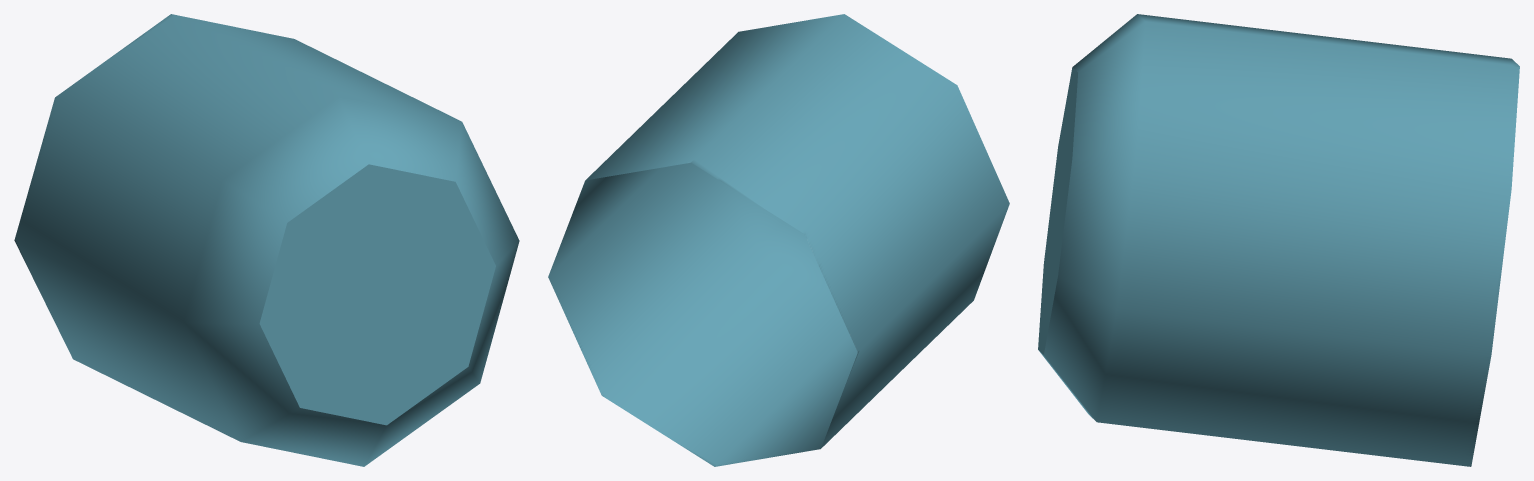
The model's file is button_right.glb.
The picture shows the model from 3 angles, left to right: view 1: azimuth 30°, elevation 25°; view 2: azimuth 150°, elevation 25°; view 3: azimuth 270°, elevation 25°; orthographic projection. The views are drawn at different scales.
Visible parts, largest first — view 1: button_right; view 2: button_right; view 3: button_right.
Boxes of the visible parts, x1,y1,x2,y2 form: button_right: (14, 14, 519, 466); button_right: (548, 14, 1009, 466); button_right: (1038, 14, 1519, 466).
Size of the model in its own units: 0.0108 by 0.0119 by 0.0119.
1 material, 1 textured.
